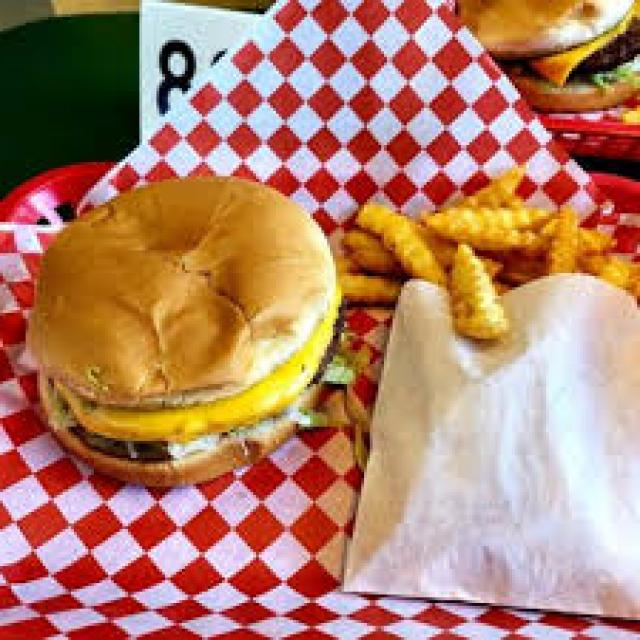Burger: (28, 165, 347, 486), (485, 0, 638, 136)
French Fries: (332, 151, 640, 375)
